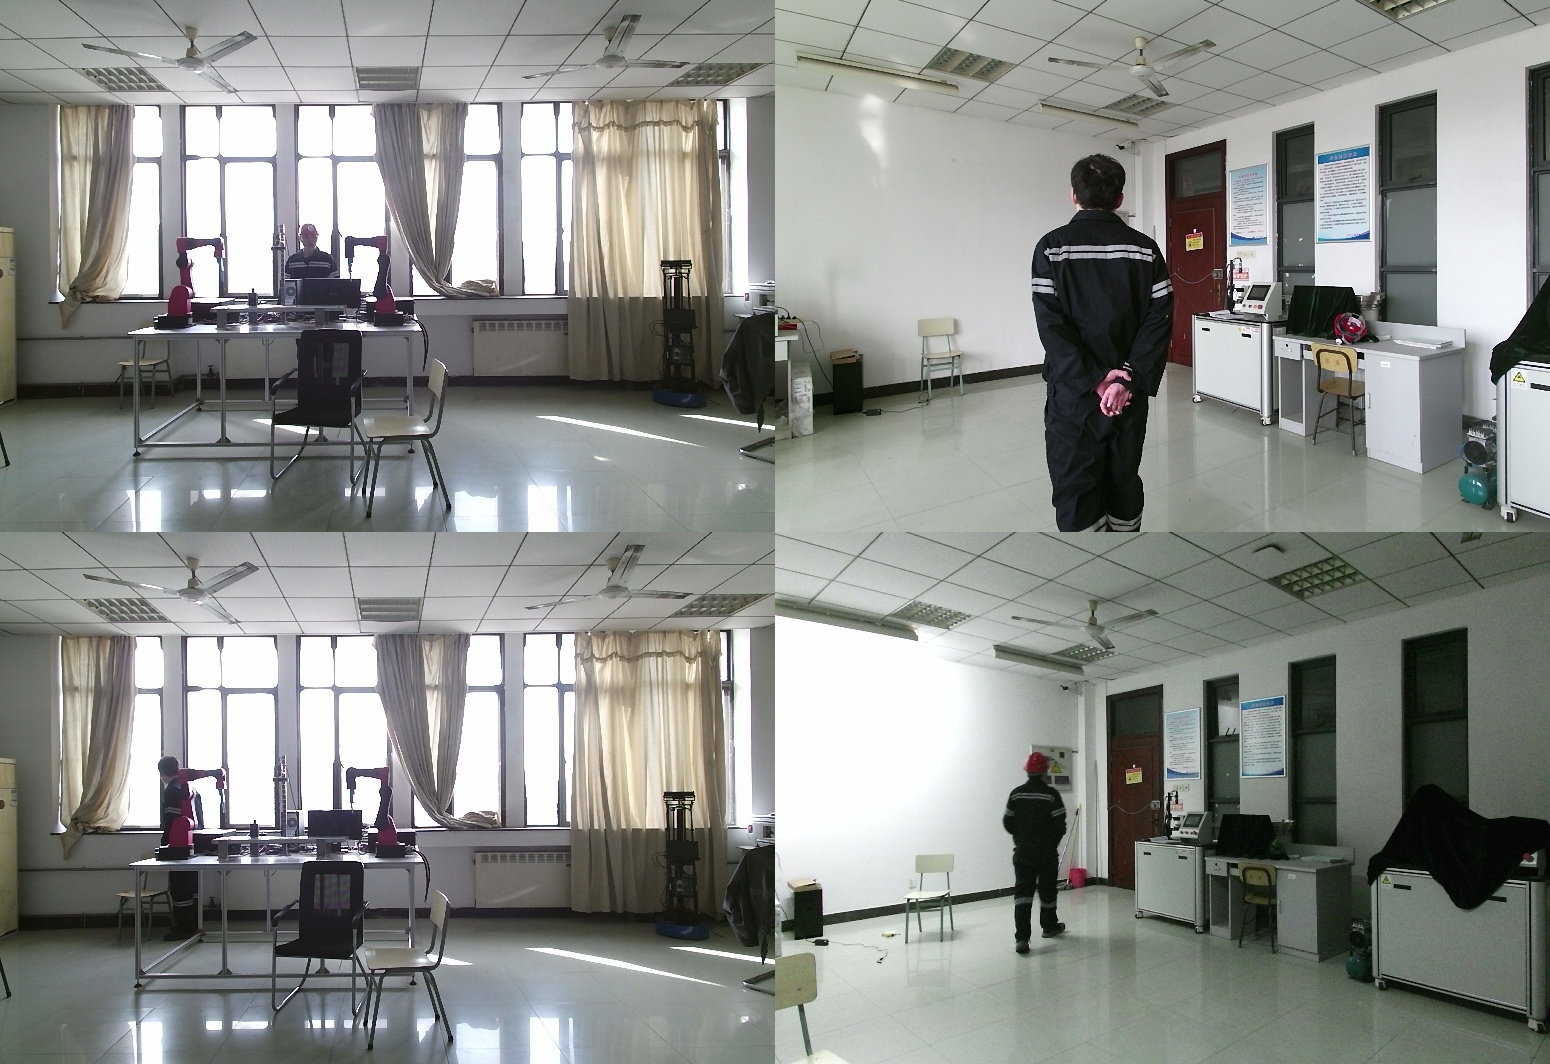person: (1022, 157, 1190, 532), (994, 752, 1070, 963), (155, 754, 208, 946), (283, 222, 342, 281)
